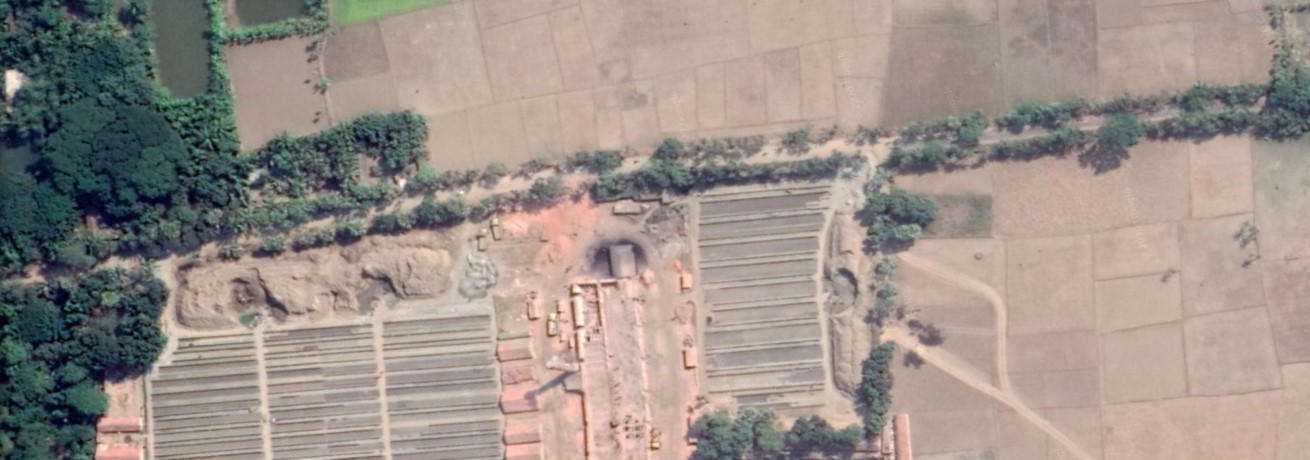kiln: (516, 277, 637, 460)
